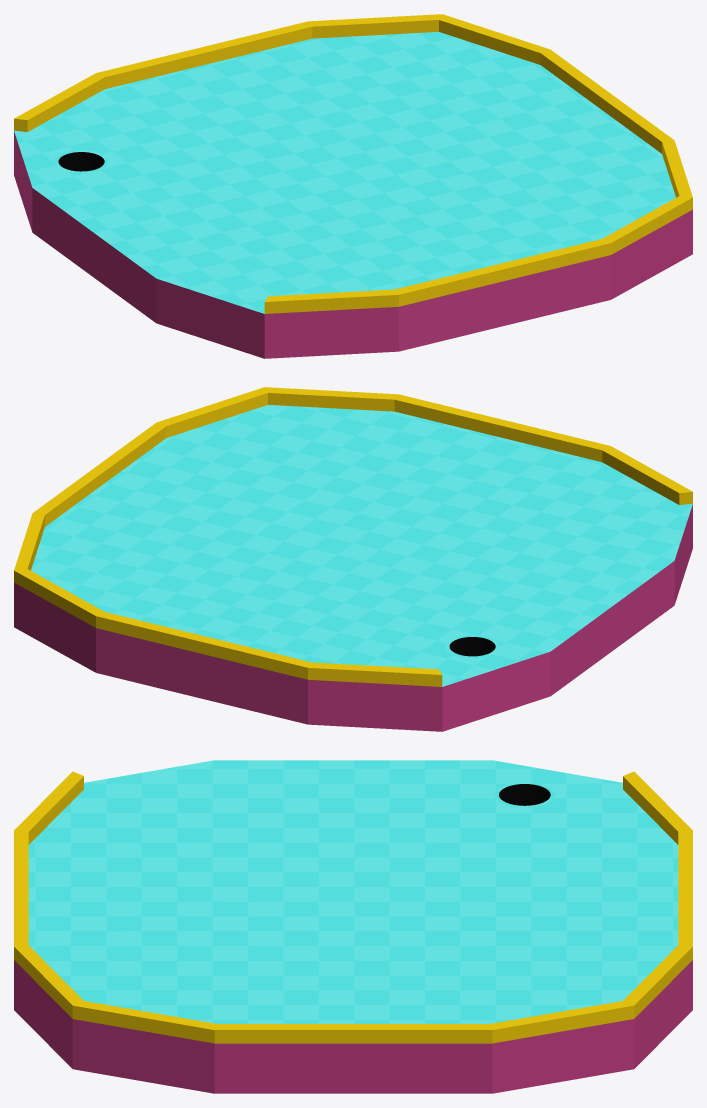
Rendered from candylevel.fbx.
3 views of the same model, one above another, from view 1: azimuth 30°, elevation 25°; view 2: azimuth 150°, elevation 25°; view 3: azimuth 270°, elevation 25° (orthographic). The views are drawn at different scales.
Visible parts, largest first — view 1: floorlevel, wall; view 2: floorlevel, wall; view 3: floorlevel, wall.
Part boxes in pixels (x1,y1,x2,y2): floorlevel: (14, 32, 692, 358); wall: (14, 14, 692, 313); floorlevel: (14, 405, 692, 731); wall: (14, 387, 692, 686); floorlevel: (14, 760, 692, 1093); wall: (14, 771, 692, 1043).
Bounding box in the file's own units: 3851 × 403 × 3900.
